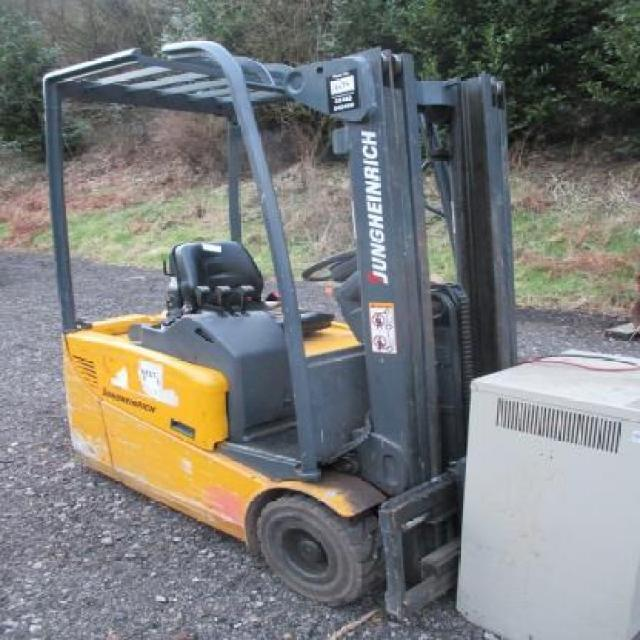forklift: (37, 63, 513, 616)
